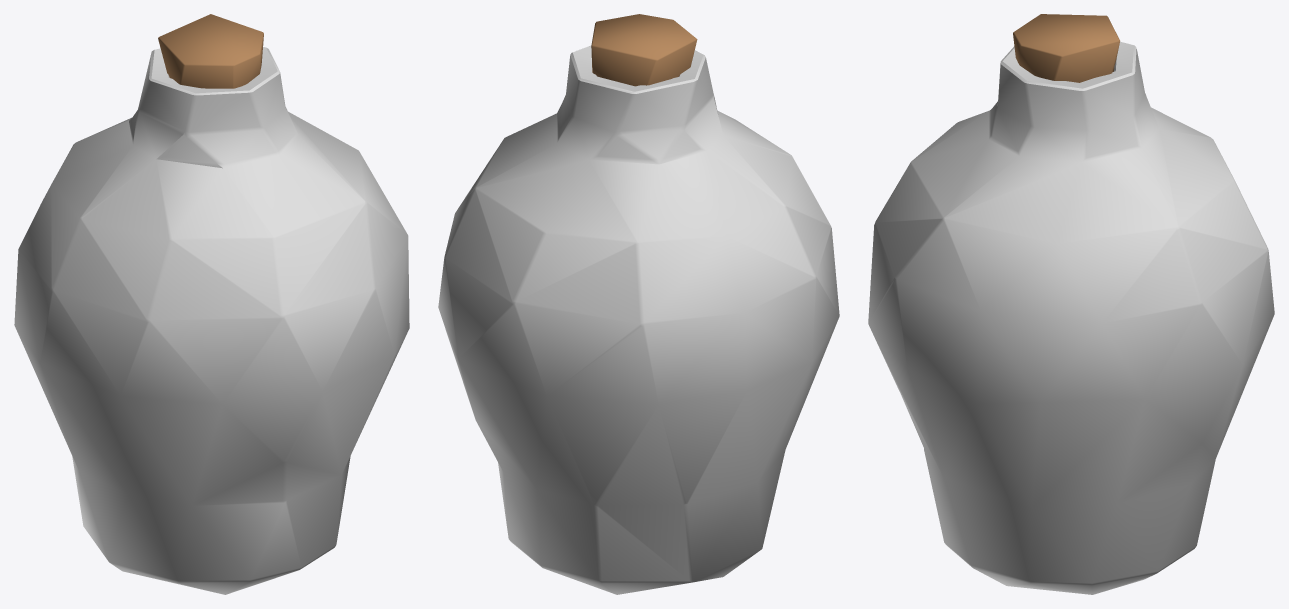
Rendered from Potion4.fbx.
The picture shows the model from 3 angles, left to right: view 1: azimuth 30°, elevation 25°; view 2: azimuth 150°, elevation 25°; view 3: azimuth 270°, elevation 25°; orthographic projection.
Visible parts, largest first — view 1: Potion4, Cork.004; view 2: Potion4, Cork.004; view 3: Potion4, Cork.004.
Part boxes in pixels (x1,y1,x2,y2): Potion4: (14, 47, 409, 594); Cork.004: (158, 14, 263, 88); Potion4: (438, 45, 839, 594); Cork.004: (591, 14, 697, 86); Potion4: (868, 41, 1274, 594); Cork.004: (1013, 14, 1119, 82).
Size of the model in its own units: 337 by 490 by 341.
